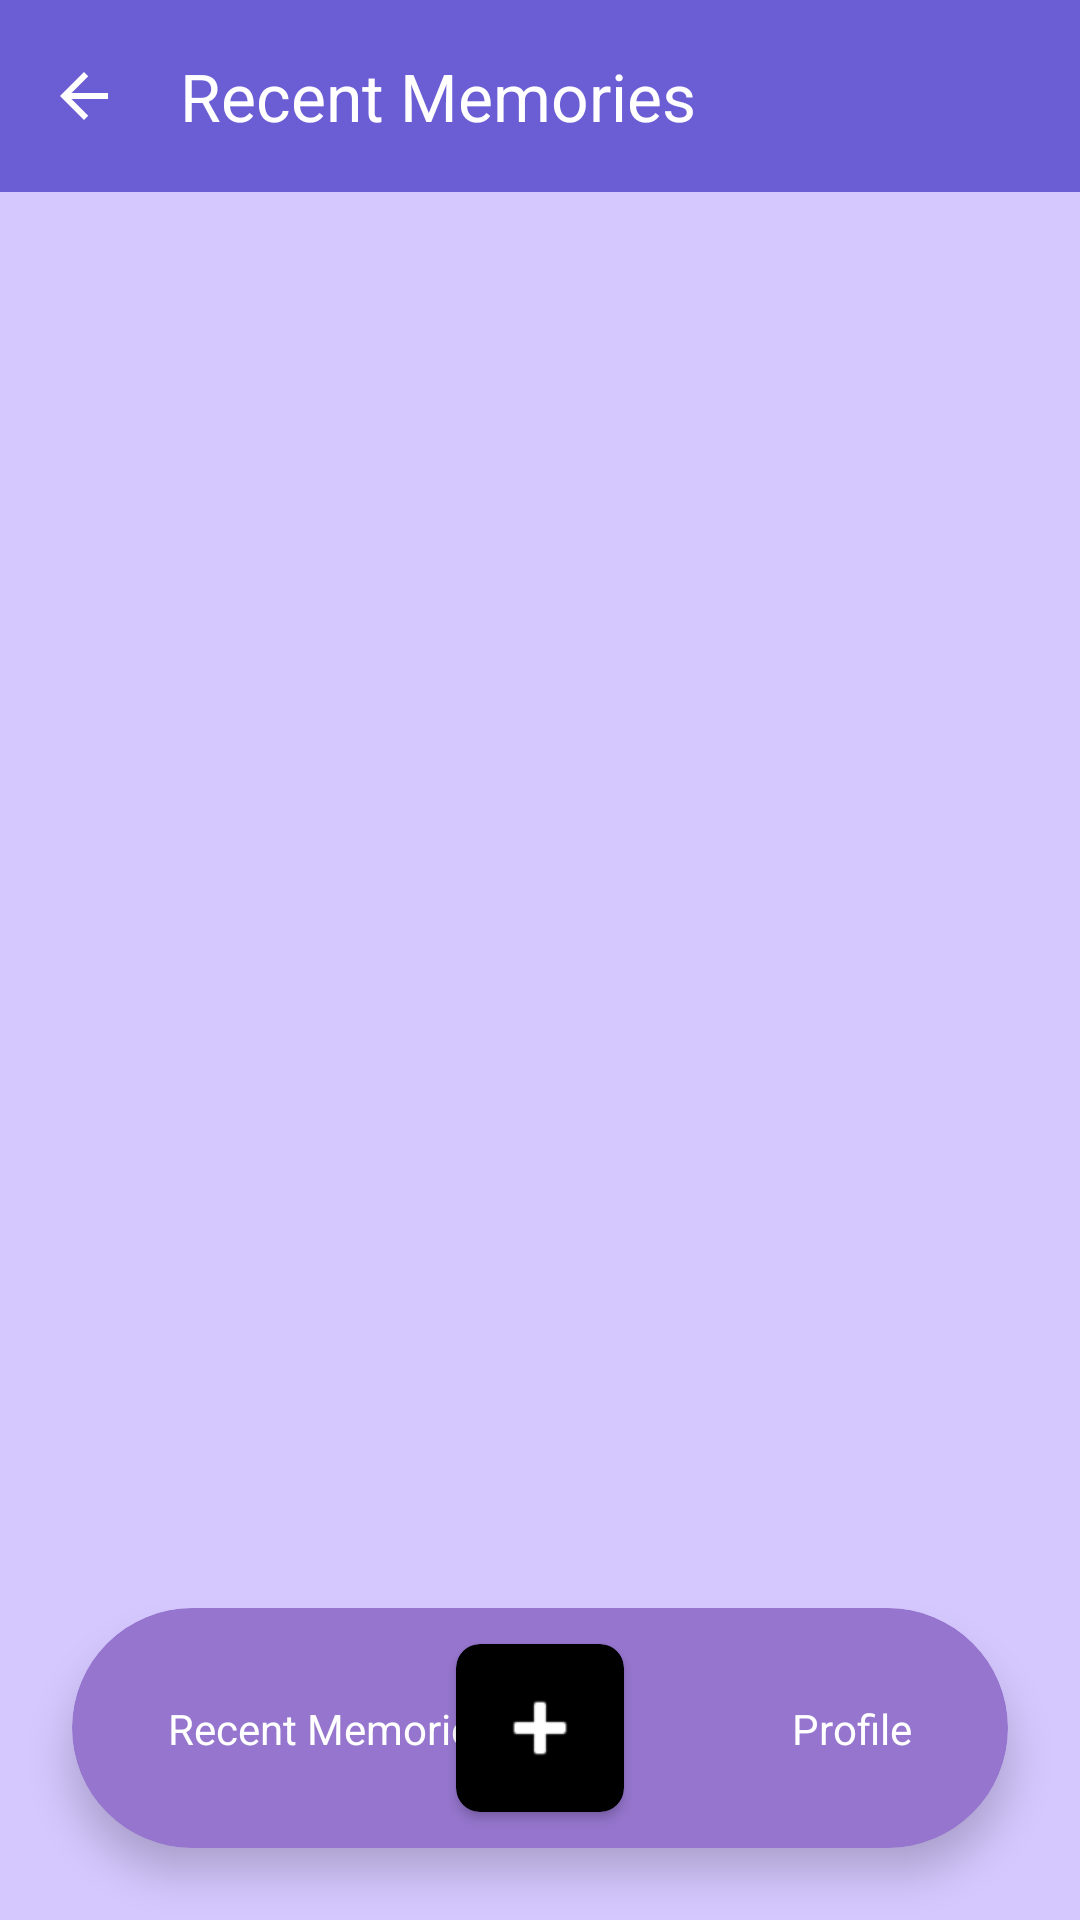

Icons on this 1080×1920 Android screen, each with the point to tap as [x,y]:
add: [540,1728]
